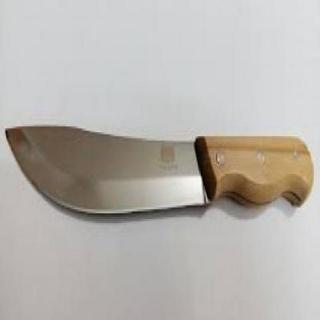knife: (6, 61, 202, 291)
